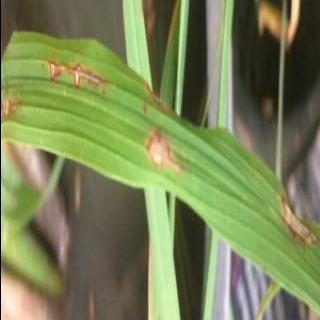Blast: (272, 181, 317, 256), (36, 54, 110, 86), (138, 129, 184, 180)
